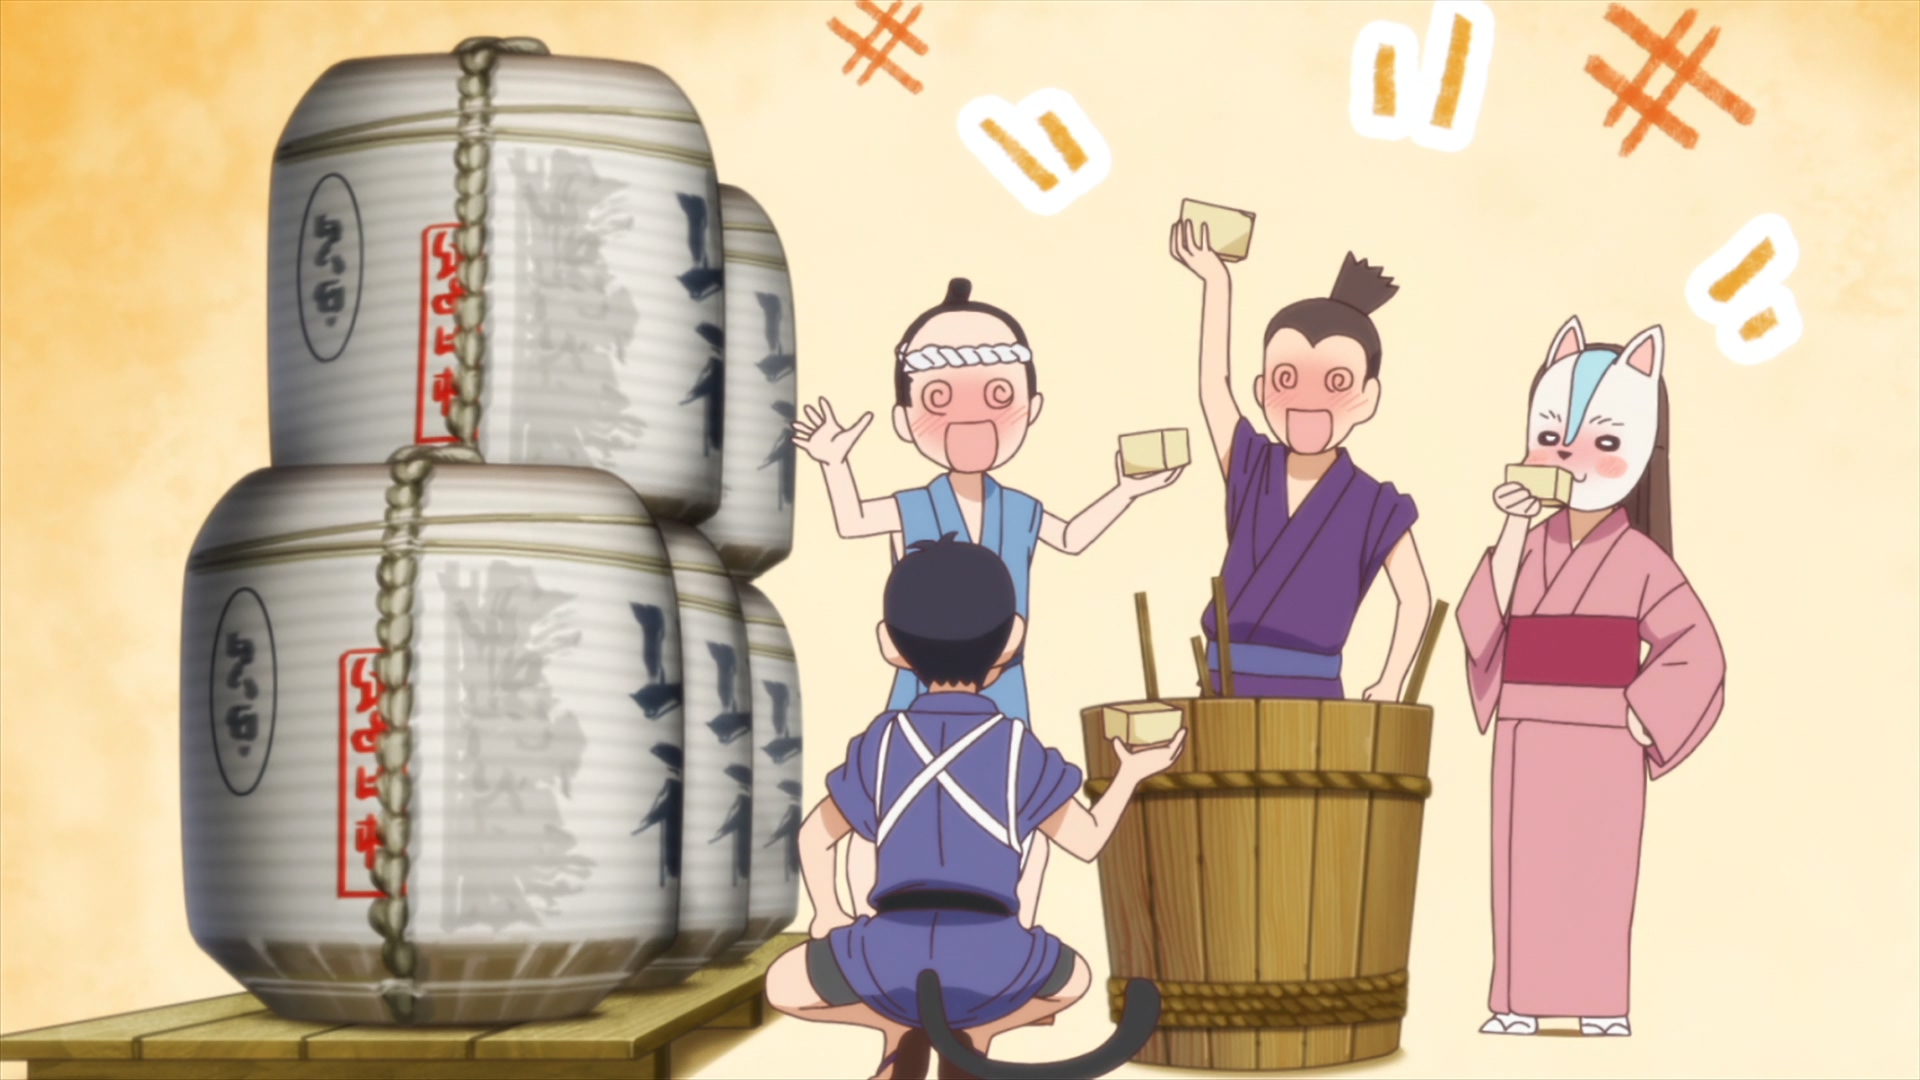其他: (764, 533, 1187, 1080), (1453, 313, 1724, 1036), (793, 277, 1183, 727), (1170, 220, 1428, 700)
